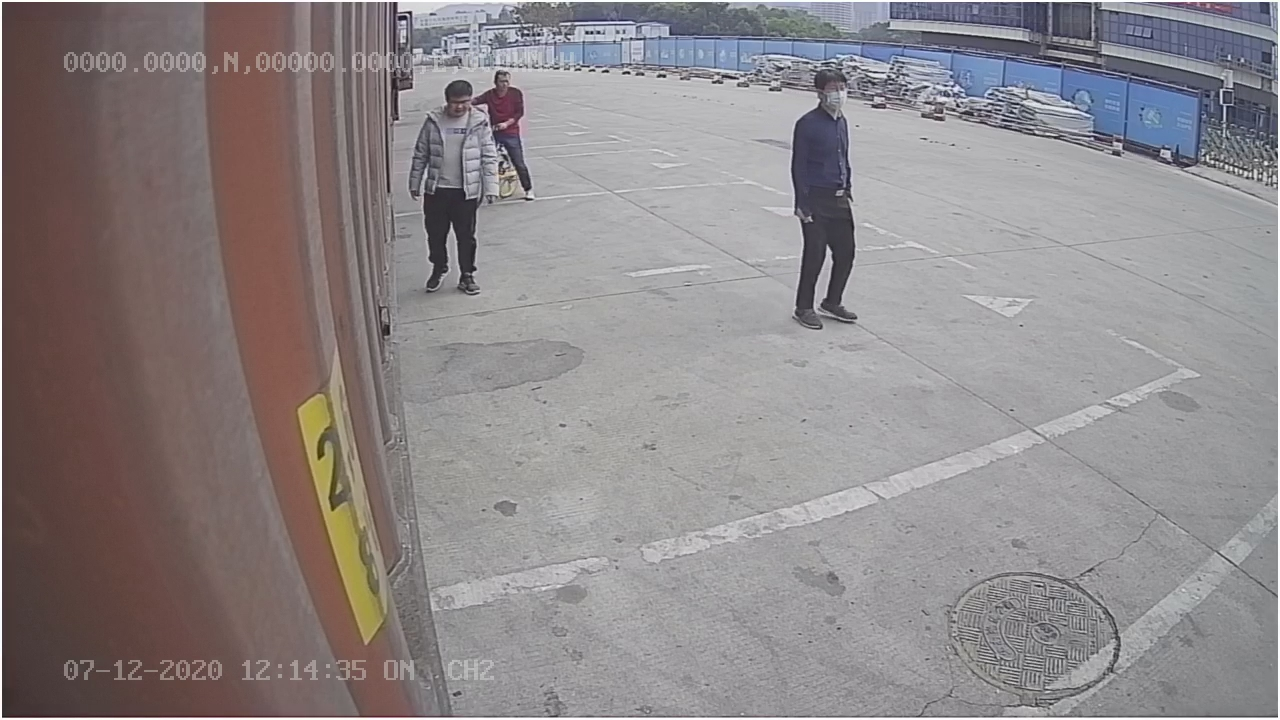person: (788, 66, 866, 331)
